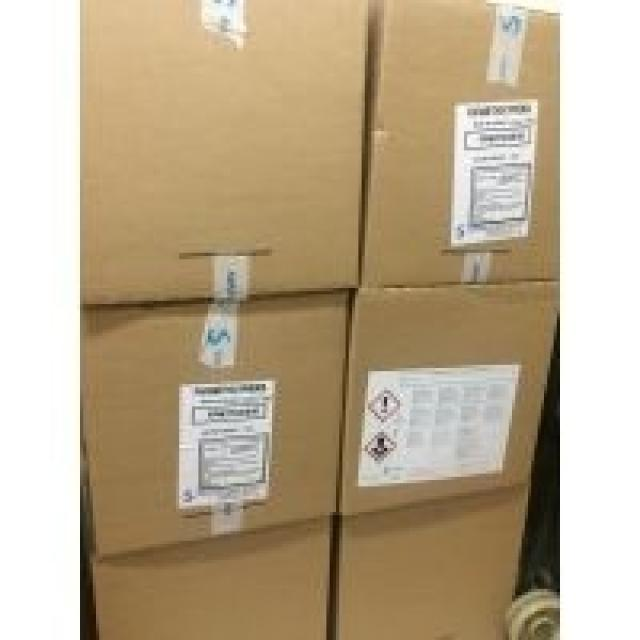box: (82, 2, 371, 305), (83, 291, 351, 559), (360, 1, 561, 288), (337, 280, 558, 513), (86, 513, 337, 636), (336, 483, 531, 637)
